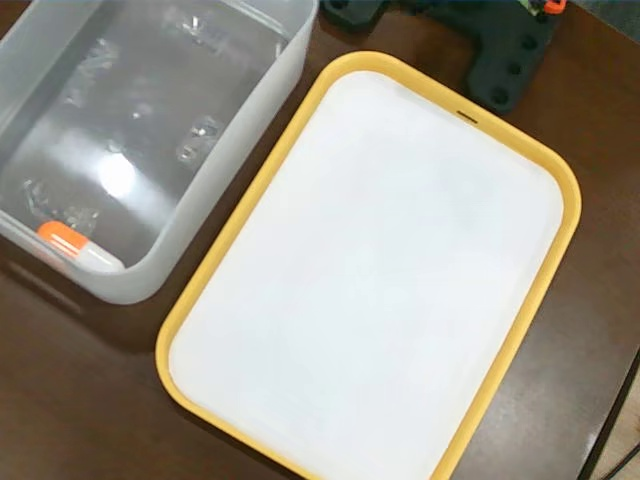pill: (32, 218, 132, 285)
